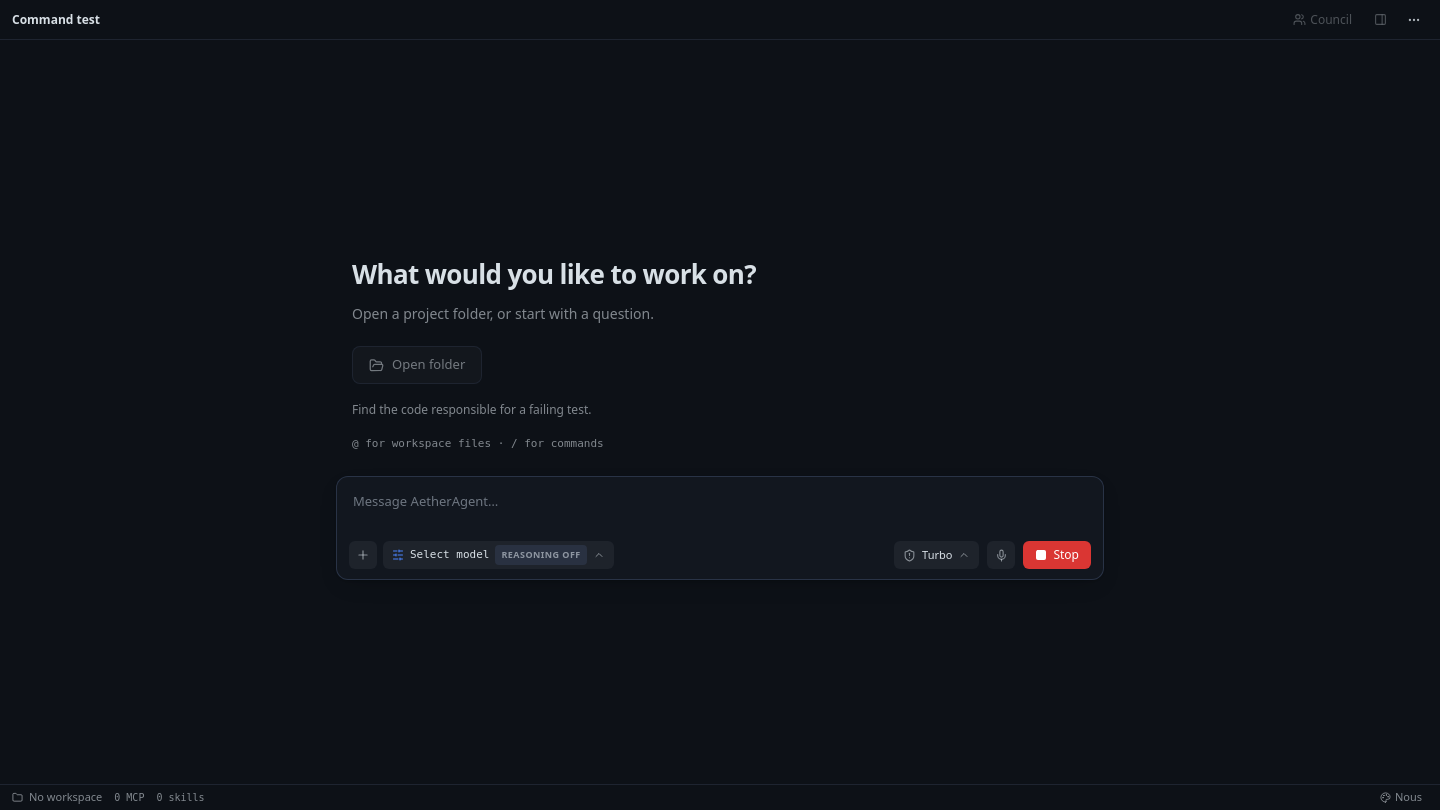
Test: ChatCanvas prompt queueing › queues a message when submitted while streaming and shows queue banner
Type "Analyze performance bottlenecks" into the text box at coordinates (720, 508), box left=337, top=477, right=1103, bottom=539
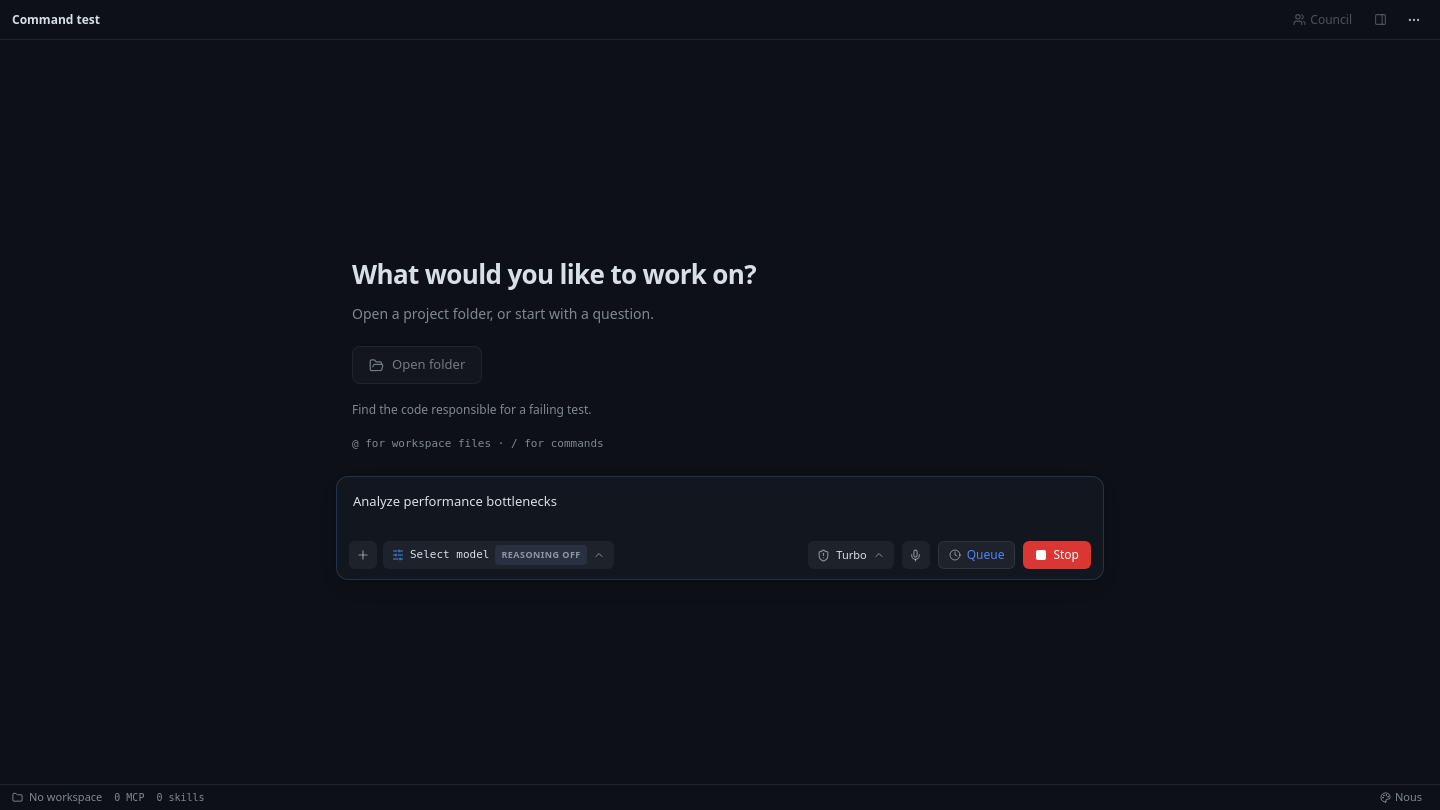
Now the button with aria-label "Queue message" is shown
Click the button with aria-label "Queue message" at coordinates (977, 555), box left=938, top=541, right=1016, bottom=569
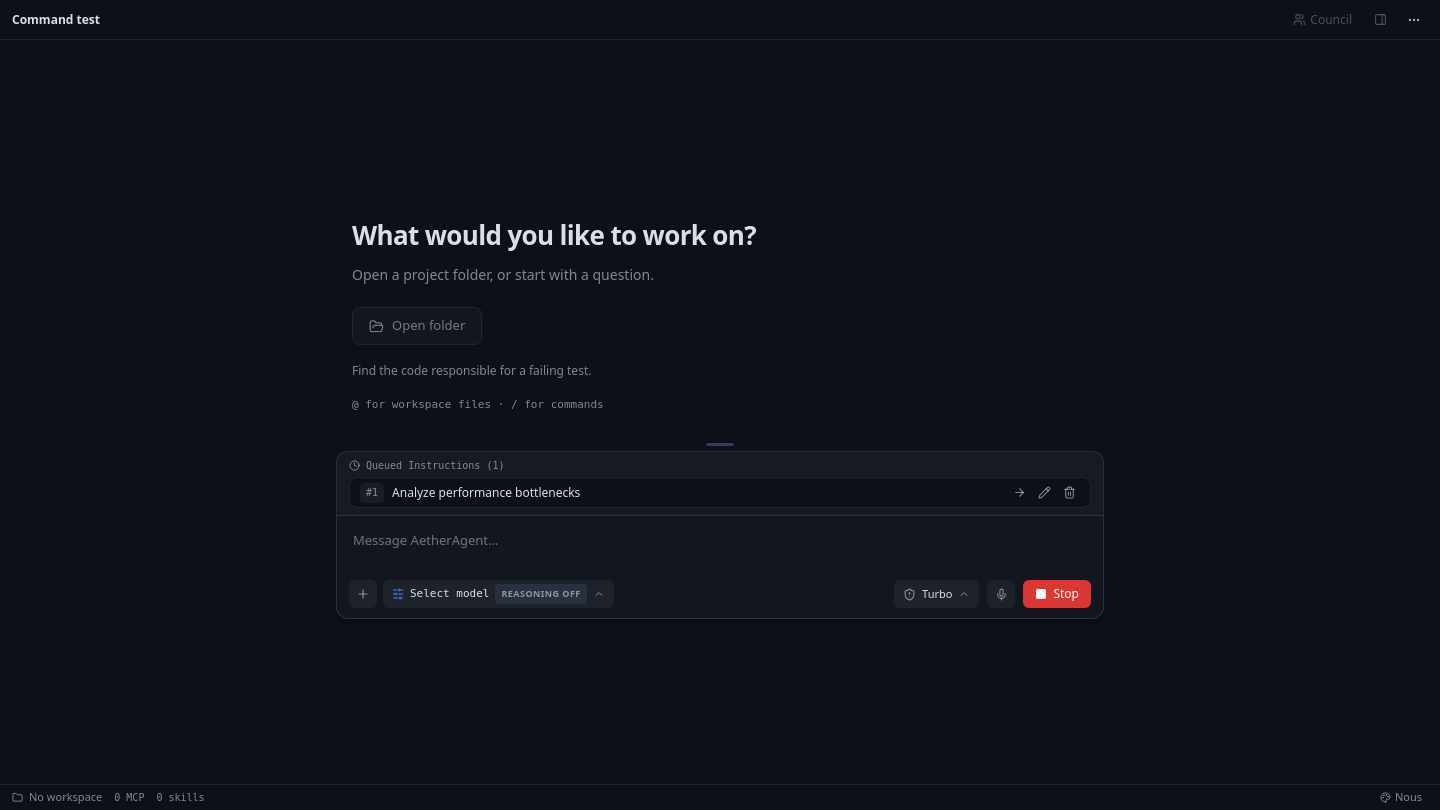
Now the text box is empty, box left=337, top=516, right=1103, bottom=578
Now the element with test id "queued-prompts-banner" is shown, box left=337, top=452, right=1103, bottom=515
Now the text "Analyze performance bottlenecks" is shown, box left=392, top=485, right=580, bottom=501
